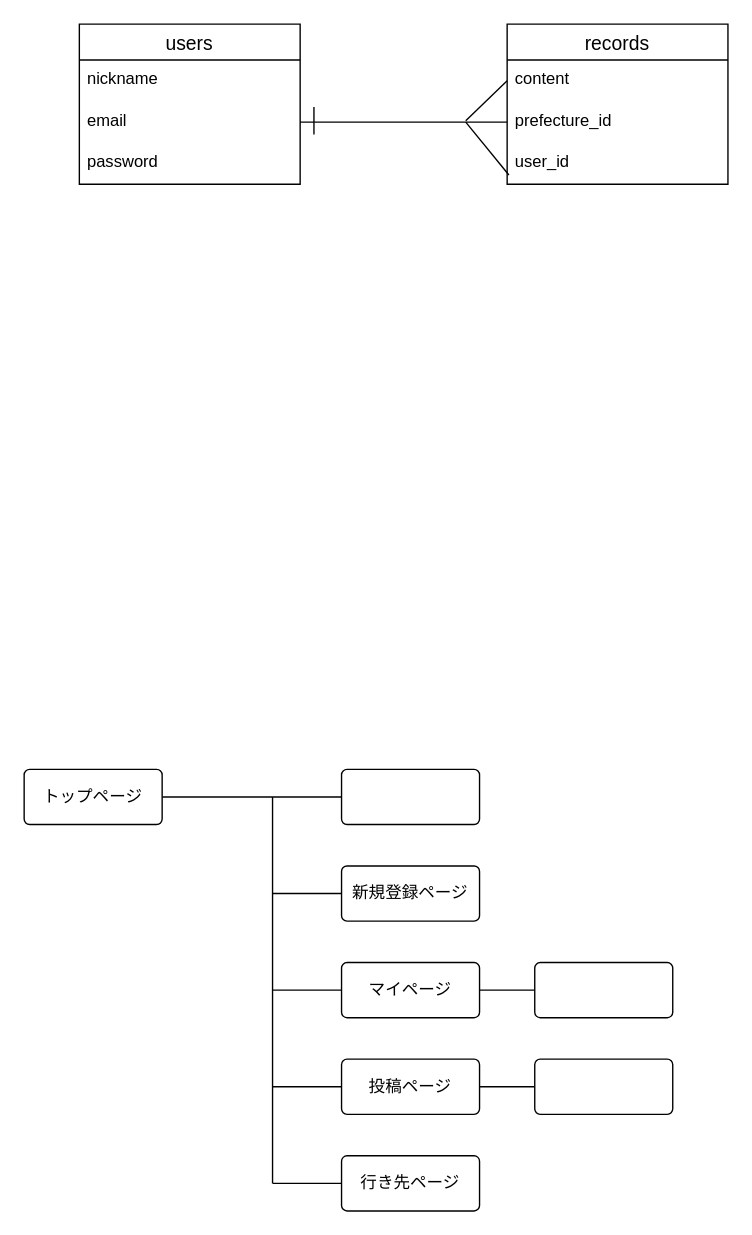
The diagram is 752 pixels wide and 1235 high, and some of its shapes have lost their labels. Each missing label, with the centre of its shape:
"ログインページ" goes at (x=410, y=796).
"投稿詳細ページ" goes at (x=603, y=989).
"編集ページ" goes at (x=603, y=1086).
